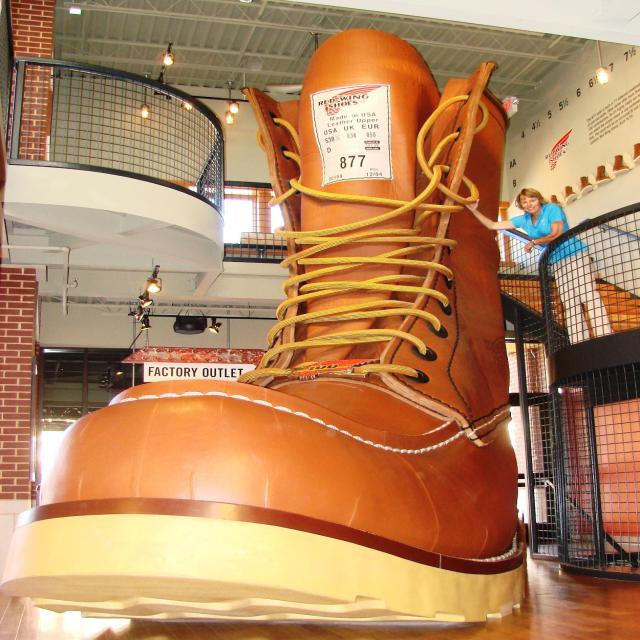boot: (24, 22, 564, 633)
